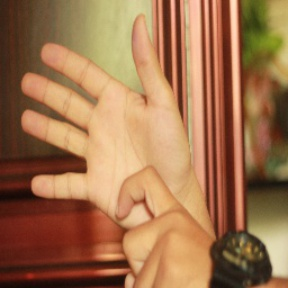R: (16, 13, 214, 287)
